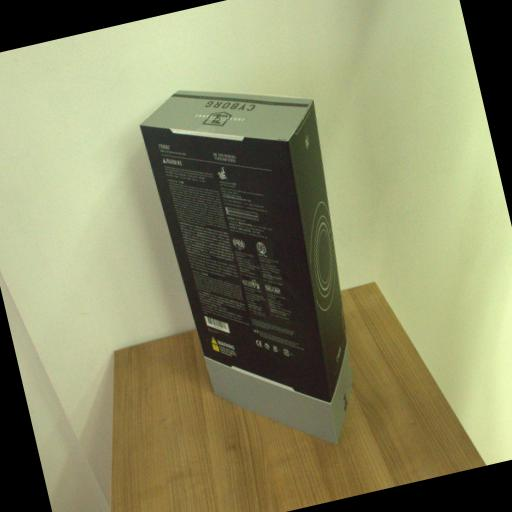Cyborg: (133, 60, 391, 472)
